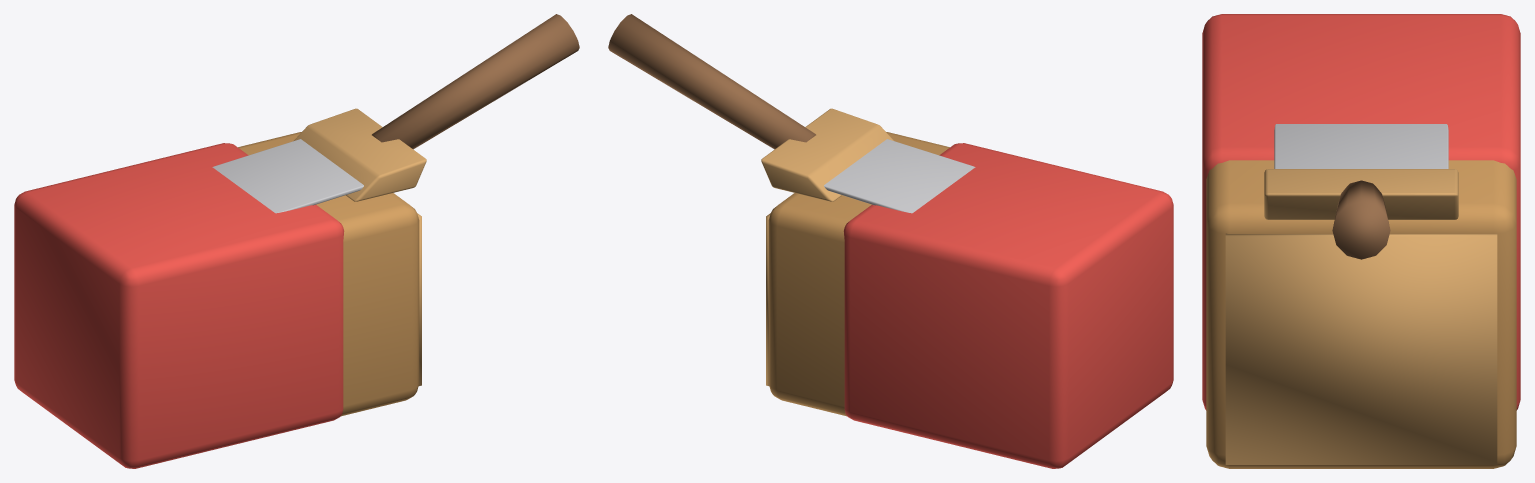
File: SM_Brunost.glb
The picture shows the model from 3 angles, left to right: view 1: azimuth 30°, elevation 25°; view 2: azimuth 150°, elevation 25°; view 3: azimuth 270°, elevation 25°; orthographic projection. The views are drawn at different scales.
Parts seen in each view (by area): view 1: SM_Brunost; view 2: SM_Brunost; view 3: SM_Brunost.
Part boxes in pixels (bbox=[...]): SM_Brunost: bbox=[14, 14, 579, 468]; SM_Brunost: bbox=[608, 14, 1173, 468]; SM_Brunost: bbox=[1202, 14, 1520, 468].
Bounding box in the file's own units: 0.2037 × 0.1144 × 0.082.
